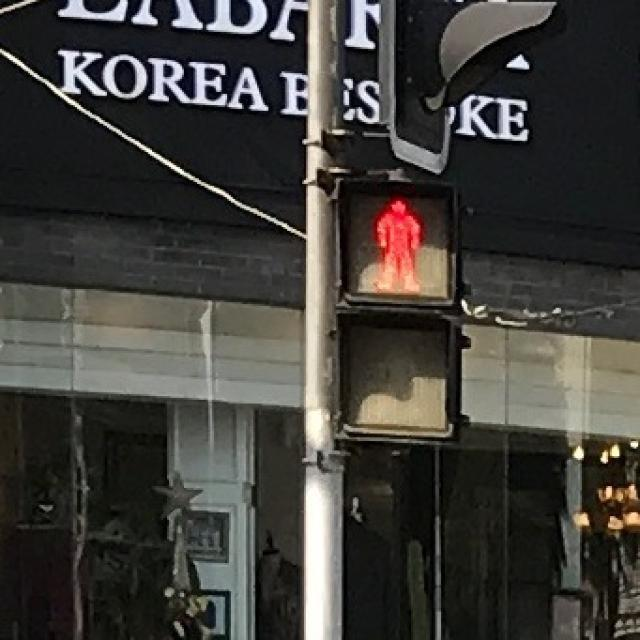red_light: (343, 178, 445, 300)
